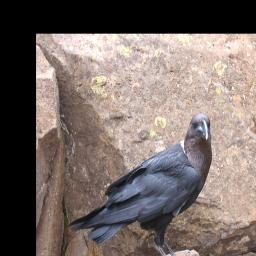Crow: (68, 112, 212, 256)
